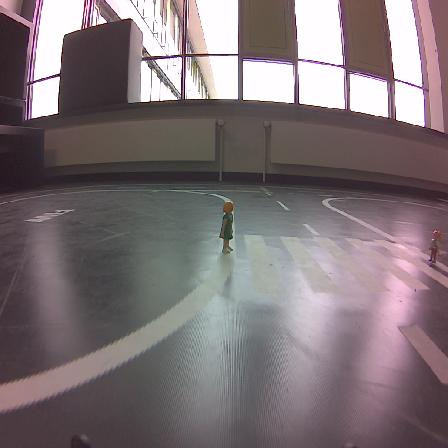CHILD: (429, 230, 440, 262)
PERSON: (220, 202, 233, 253)
